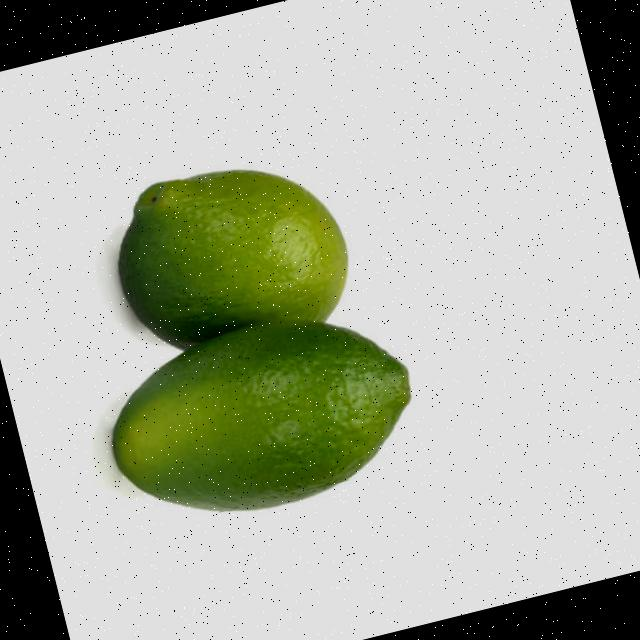Unripe: (88, 289, 434, 541)
